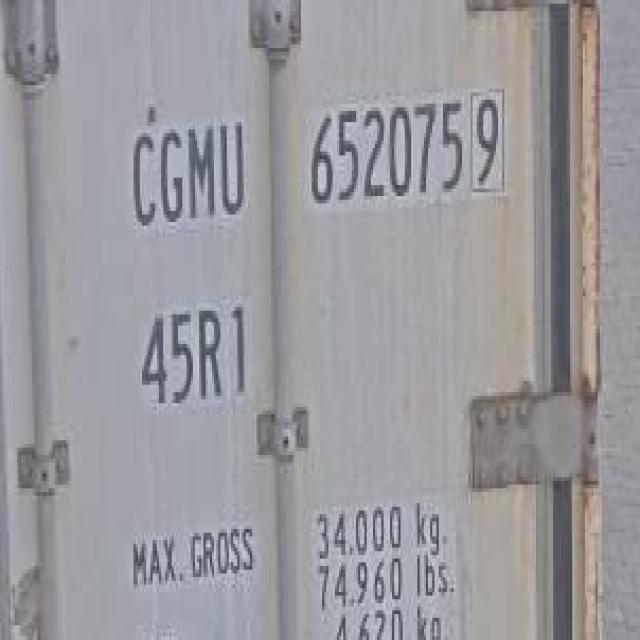dv: (465, 84, 510, 199)
owner: (123, 118, 252, 227)
serial: (304, 88, 466, 220)
size: (126, 289, 269, 420)
